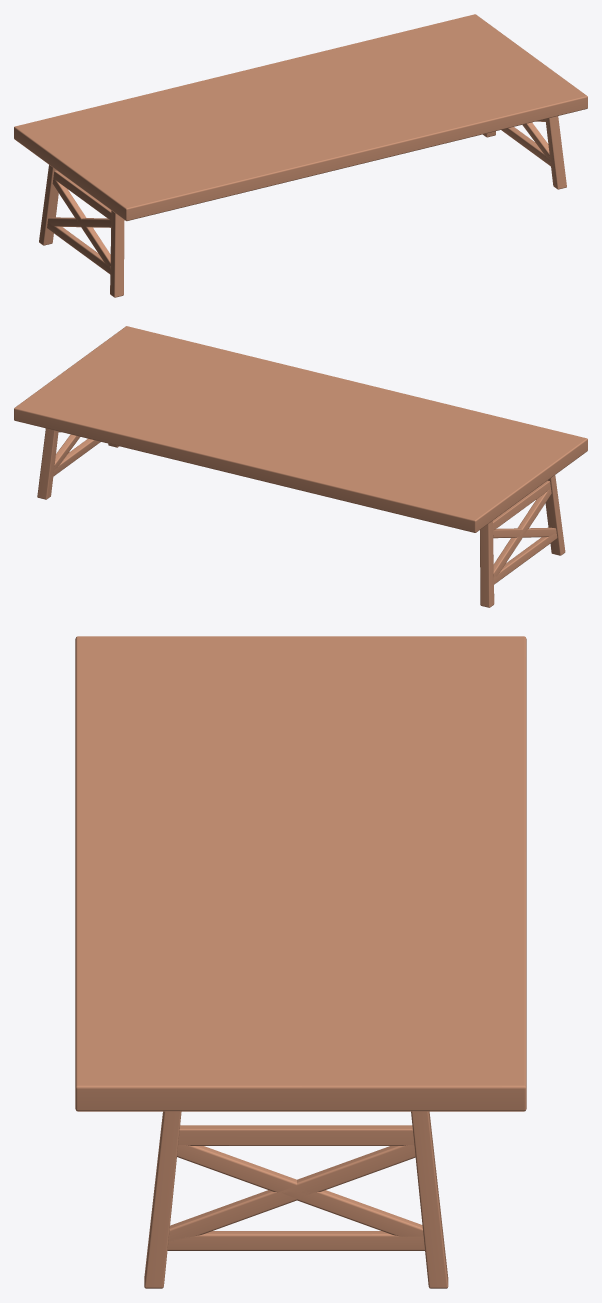
The model's file is tafel.fbx.
3 renders of one model, top to bottom at view 1: azimuth 30°, elevation 25°; view 2: azimuth 150°, elevation 25°; view 3: azimuth 270°, elevation 25°, orthographic. The views are drawn at different scales.
Parts seen in each view (by area): view 1: pCube292; view 2: pCube292; view 3: pCube292.
Part boxes in pixels (bbox=[...]): pCube292: bbox=[14, 14, 587, 297]; pCube292: bbox=[14, 326, 587, 607]; pCube292: bbox=[75, 636, 526, 1288].
Bounding box in the file's own units: 515 × 110 × 218.
